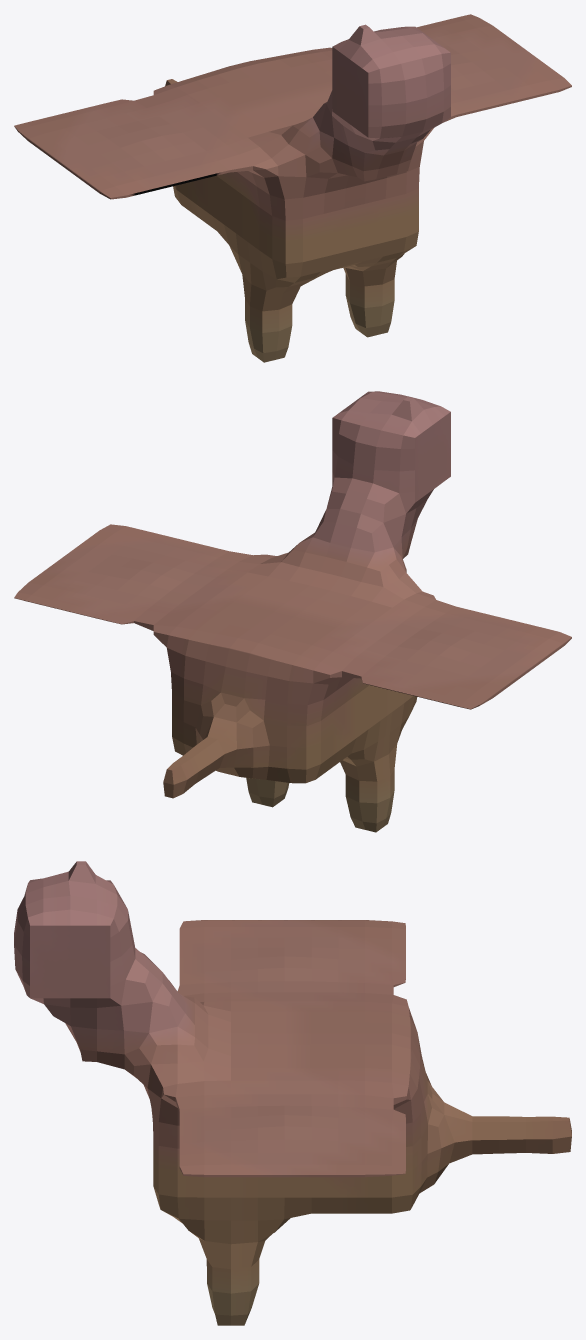
The model's file is dragonHatchling.glb.
The picture shows the model from 3 angles, top to bottom: view 1: azimuth 30°, elevation 25°; view 2: azimuth 150°, elevation 25°; view 3: azimuth 270°, elevation 25°; orthographic projection. The views are drawn at different scales.
Parts seen in each view (by area): view 1: geometry_0; view 2: geometry_0; view 3: geometry_0.
Boxes of the visible parts, box(x1,y1,x2,y2) form: geometry_0: box(14, 14, 571, 362); geometry_0: box(14, 391, 571, 832); geometry_0: box(14, 861, 571, 1325).
Size of the model in its own units: 1.25 by 0.9519 by 1.16.
1 material, 1 textured.
